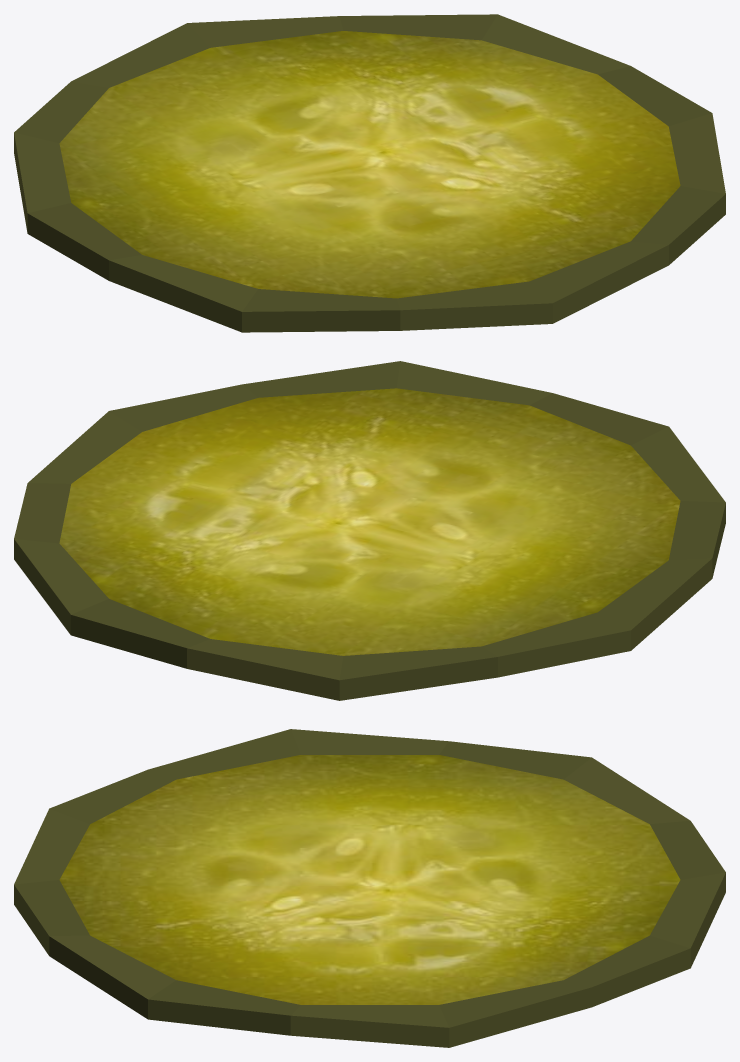
File: pickles.fbx
The picture shows the model from 3 angles, top to bottom: view 1: azimuth 30°, elevation 25°; view 2: azimuth 150°, elevation 25°; view 3: azimuth 270°, elevation 25°; orthographic projection. The views are drawn at different scales.
Parts seen in each view (by area): view 1: Cylinder.020; view 2: Cylinder.020; view 3: Cylinder.020.
Boxes of the visible parts, x1=… form: Cylinder.020: x1=14, y1=14, x2=725, y2=332; Cylinder.020: x1=14, y1=361, x2=725, y2=700; Cylinder.020: x1=14, y1=729, x2=725, y2=1047.
Bounding box in the file's own units: 8.98 × 0.4714 × 9.42.
Materials: 2 (1 with a texture image).
